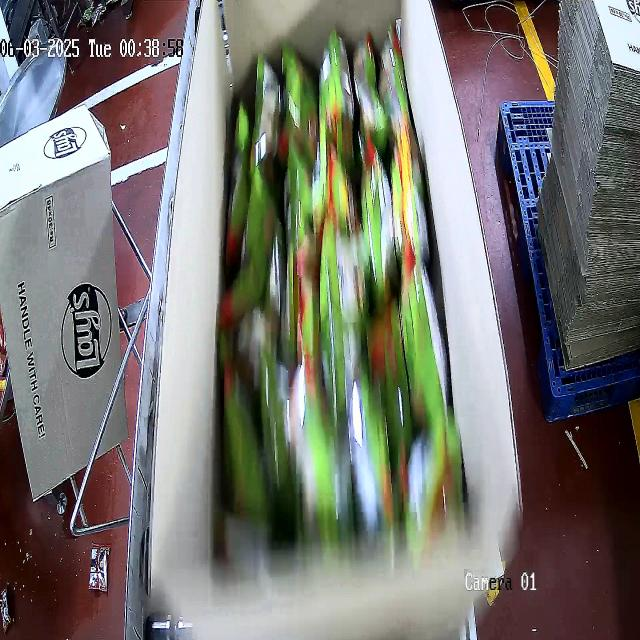YOGURT_HERB: (229, 48, 455, 560)
